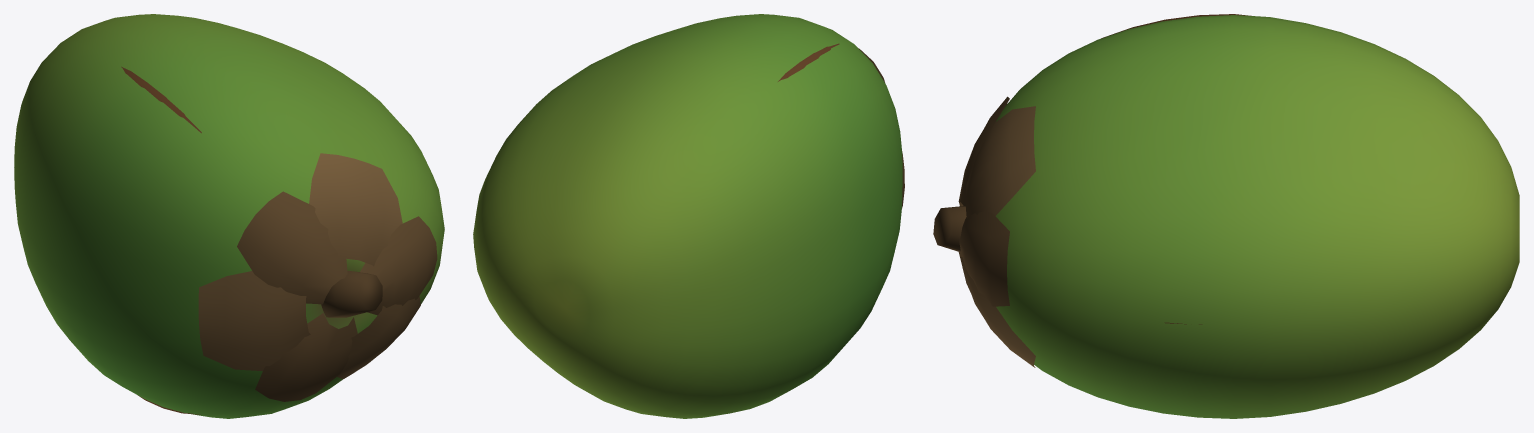
Rendered from coconut.glb.
3 renders of one model, left to right at view 1: azimuth 30°, elevation 25°; view 2: azimuth 150°, elevation 25°; view 3: azimuth 270°, elevation 25°, orthographic. The views are drawn at different scales.
Parts seen in each view (by area): view 1: CoconutYoung, CoconutOld; view 2: CoconutYoung; view 3: CoconutYoung.
Part boxes in pixels (x1=…): CoconutYoung: x1=14, y1=14, x2=444, y2=418; CoconutOld: x1=121, y1=66, x2=201, y2=414; CoconutYoung: x1=473, y1=14, x2=904, y2=418; CoconutYoung: x1=933, y1=15, x2=1519, y2=418.
Size of the model in its own units: 0.29 by 0.2861 by 0.4093.
